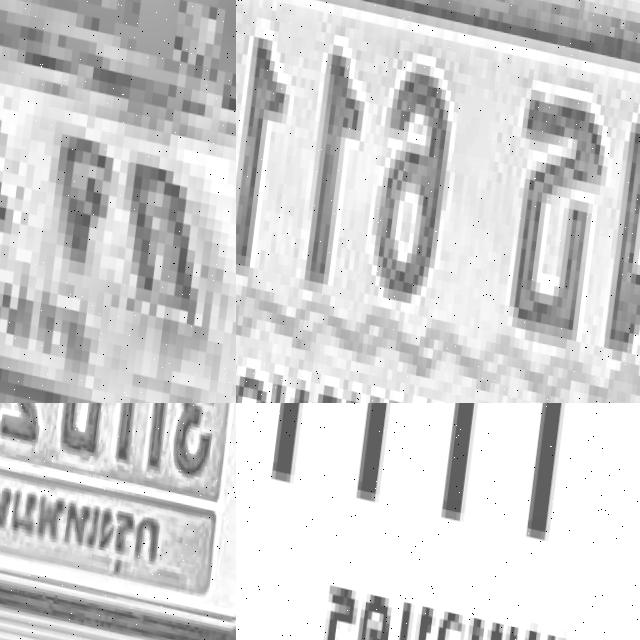license-plate: (236, 0, 640, 403), (236, 403, 640, 640), (0, 0, 236, 403), (0, 403, 236, 640)
